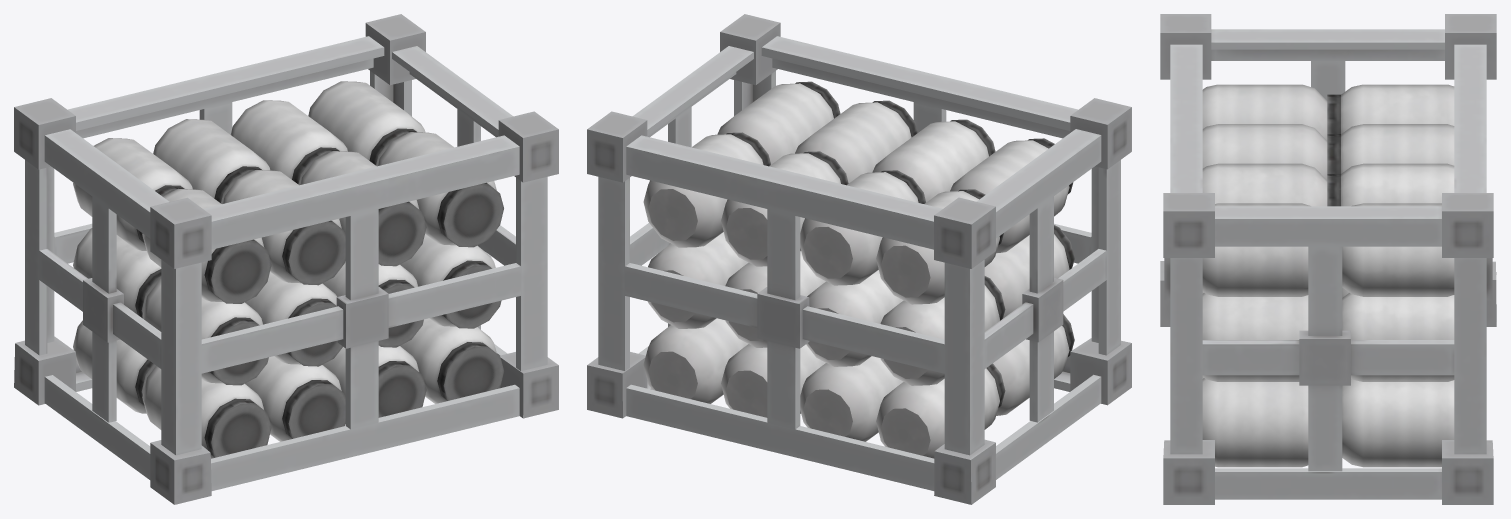
The model's file is Pfb_StuffGroup.fbx.
The picture shows the model from 3 angles, left to right: view 1: azimuth 30°, elevation 25°; view 2: azimuth 150°, elevation 25°; view 3: azimuth 270°, elevation 25°; orthographic projection. The views are drawn at different scales.
Visible parts, largest first — view 1: Mat_SteelFrame_01, Mat_WaterTankButt_01_Y, Mat_WaterTankButt_01_D; view 2: Mat_SteelFrame_01, Mat_WaterTankButt_01_Y, Mat_WaterTankButt_01_D; view 3: Mat_SteelFrame_01, Mat_WaterTankButt_01_Y, Mat_WaterTankButt_01_D.
Part boxes in pixels (bbox=[...]): Mat_SteelFrame_01: bbox=[14, 14, 558, 504]; Mat_WaterTankButt_01_Y: bbox=[73, 81, 503, 458]; Mat_WaterTankButt_01_D: bbox=[73, 119, 501, 441]; Mat_SteelFrame_01: bbox=[587, 14, 1131, 504]; Mat_WaterTankButt_01_Y: bbox=[643, 81, 1074, 458]; Mat_WaterTankButt_01_D: bbox=[648, 170, 1005, 417]; Mat_SteelFrame_01: bbox=[1160, 14, 1496, 504]; Mat_WaterTankButt_01_Y: bbox=[1202, 84, 1454, 467]; Mat_WaterTankButt_01_D: bbox=[1202, 124, 1454, 381].
Bounding box in the file's own units: 2.72 × 1.89 × 1.96.
3 materials, 3 textured.
